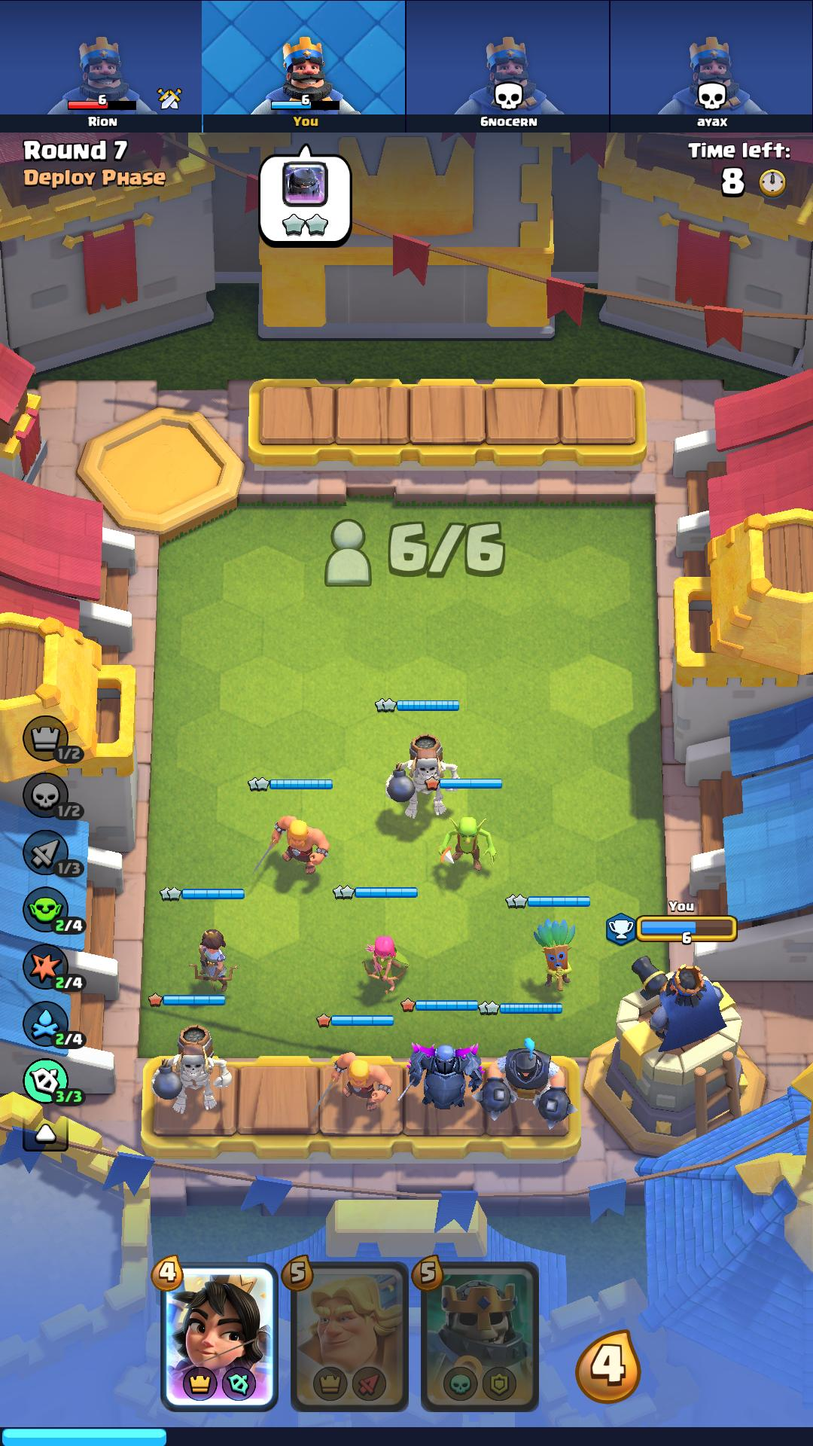archer: (353, 925, 416, 994)
barbarian: (310, 1034, 395, 1116), (250, 810, 342, 877)
dart: (524, 919, 590, 992)
giant: (145, 1020, 242, 1123), (382, 728, 469, 817)
goblin: (440, 809, 500, 877)
hand-golden: (293, 1262, 404, 1408)
hand-king: (423, 1266, 537, 1409)
hand-princess: (163, 1265, 274, 1407)
mega: (475, 1031, 576, 1130)
pekka: (397, 1031, 488, 1120)
princess: (186, 918, 245, 994)
